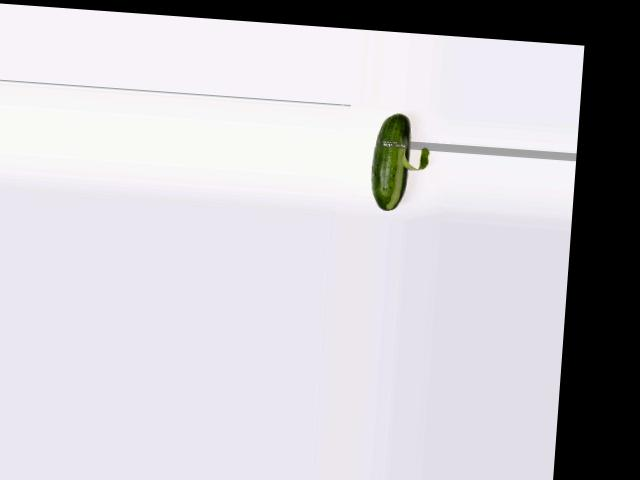cucumber: (369, 111, 413, 212)
